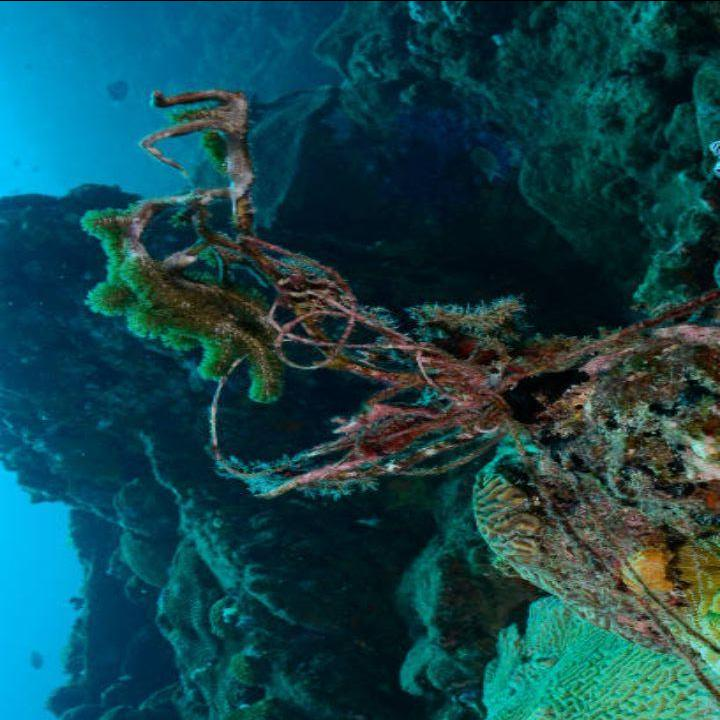Healthy Coral: (85, 144, 325, 416), (477, 553, 709, 697)
